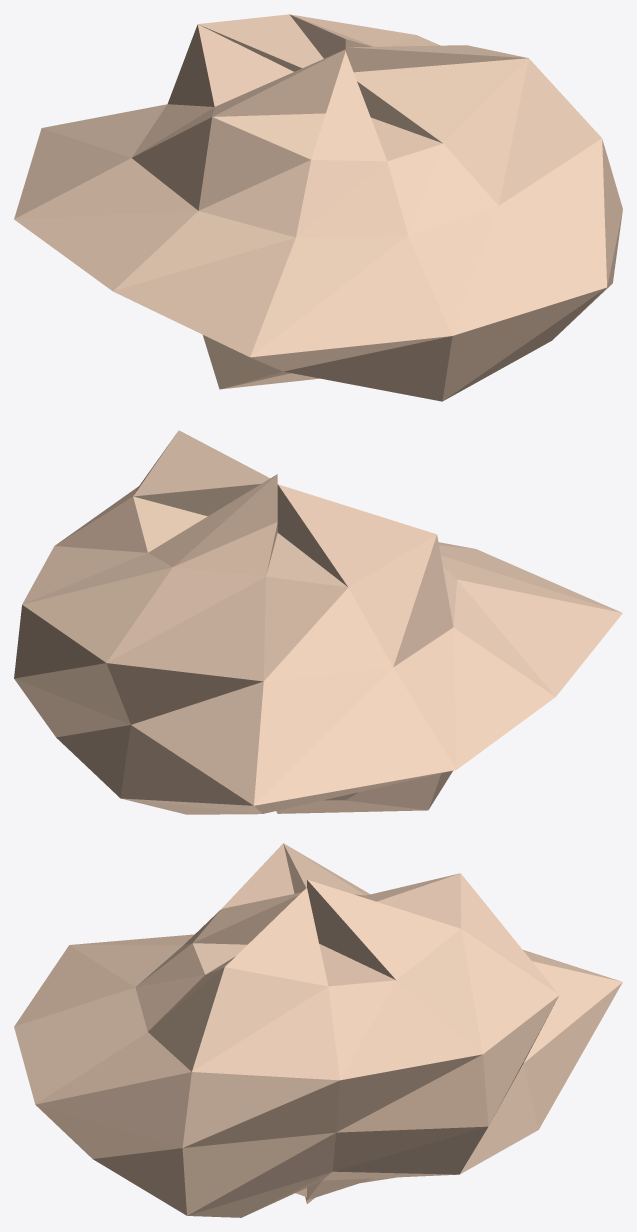
File: rock_004.obj
The picture shows the model from 3 angles, top to bottom: view 1: azimuth 30°, elevation 25°; view 2: azimuth 150°, elevation 25°; view 3: azimuth 270°, elevation 25°; orthographic projection. The views are drawn at different scales.
Size of the model in its own units: 0.5497 by 0.3789 by 0.6434.
